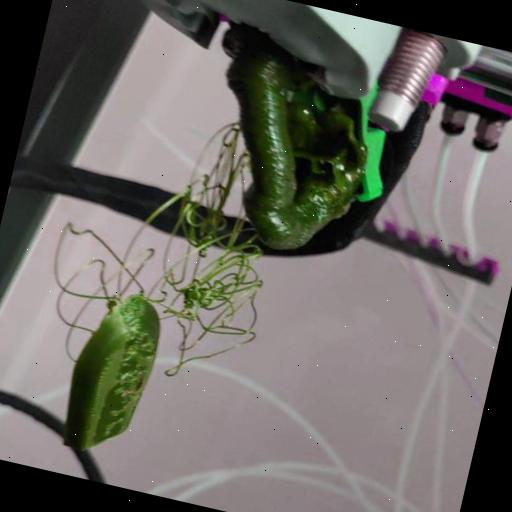spaghetti: (98, 98, 312, 405), (30, 212, 132, 368)
